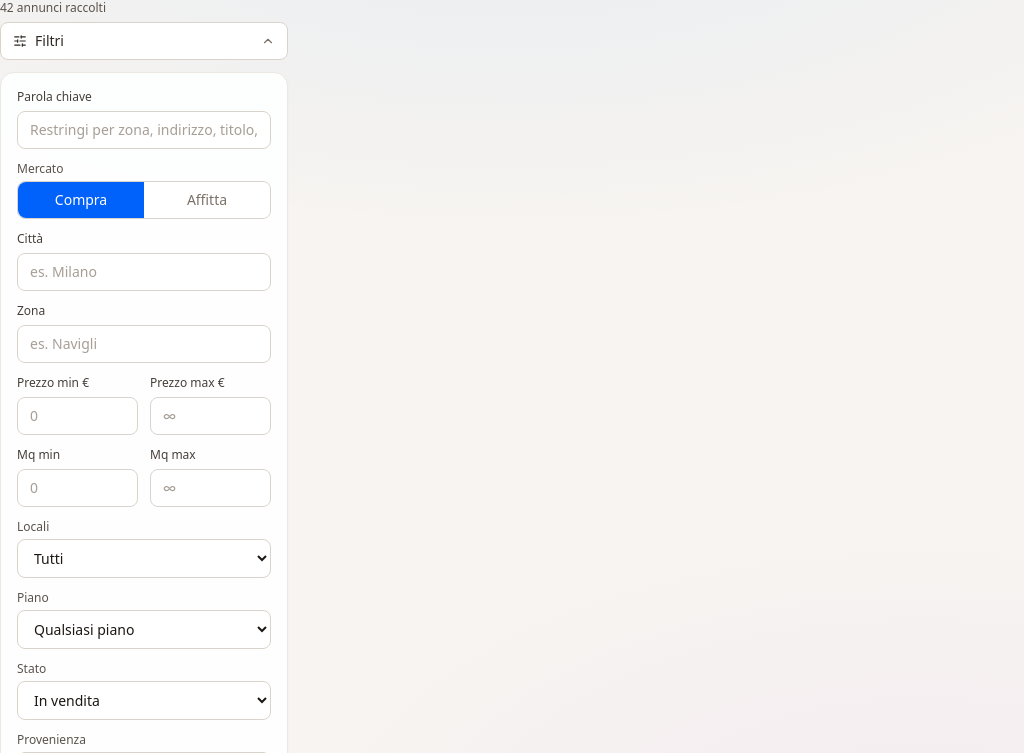
Test: FilterRail labelling › shuts, and takes the fields with it
Click the button "Filtri".
click(20, 41)  # box [0,22,288,60]
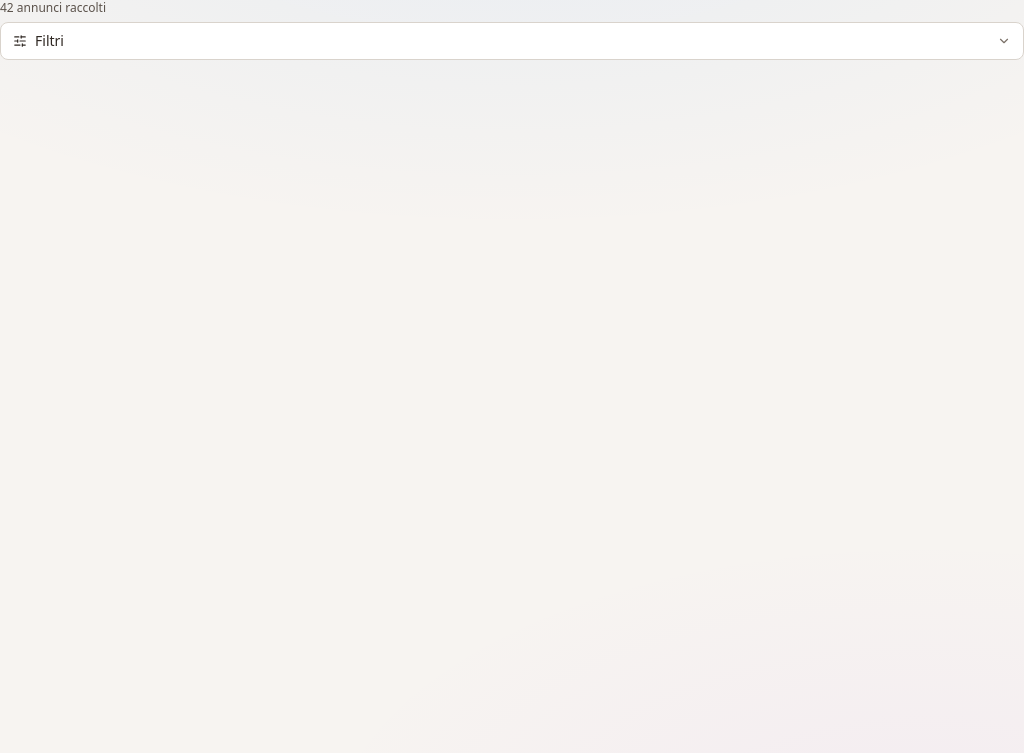
Expected: the label labelled "Città" is gone
